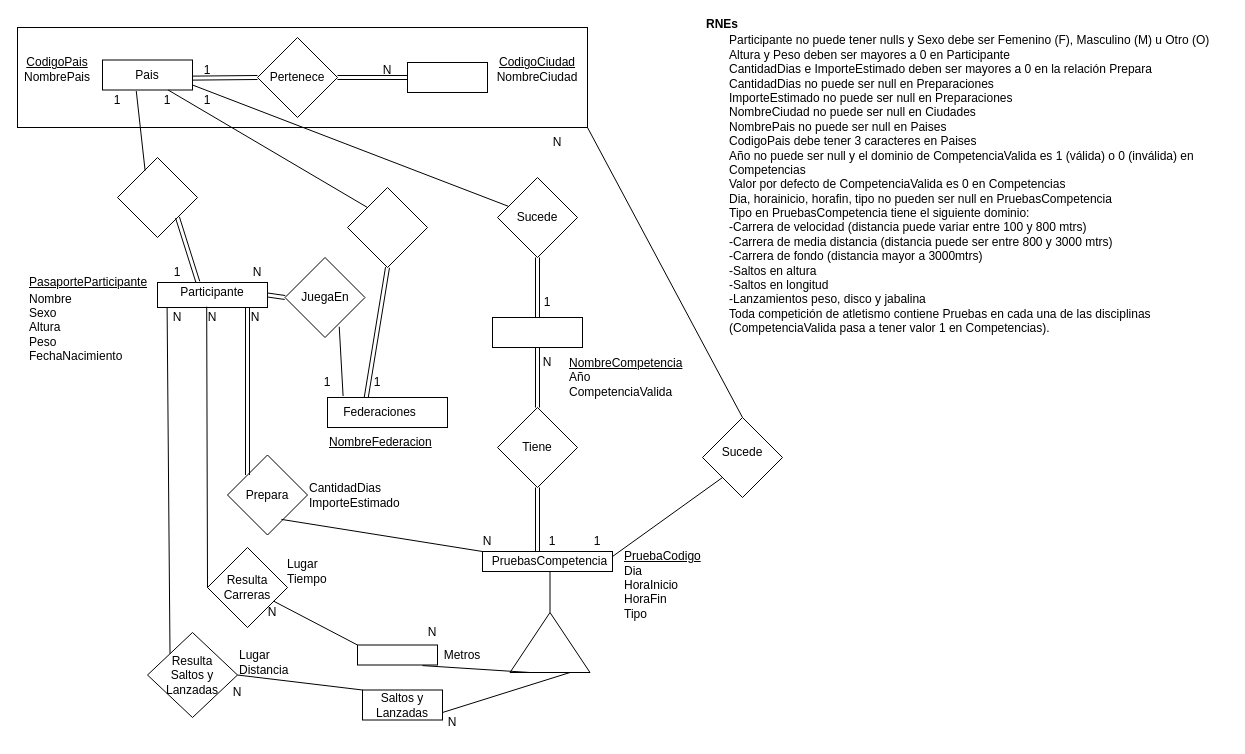
The diagram is 1245 pixels wide and 754 high, and some of its shapes have lost their labels. Here are the shapes that lost their labels. From the top down, the centre of each, then its label:
At (447,77): "Ciudad".
At (157,197): "Nacionalidad".
At (387,227): "Representa".
At (537,332): "Competencia".
At (397,654): "Carreras".
